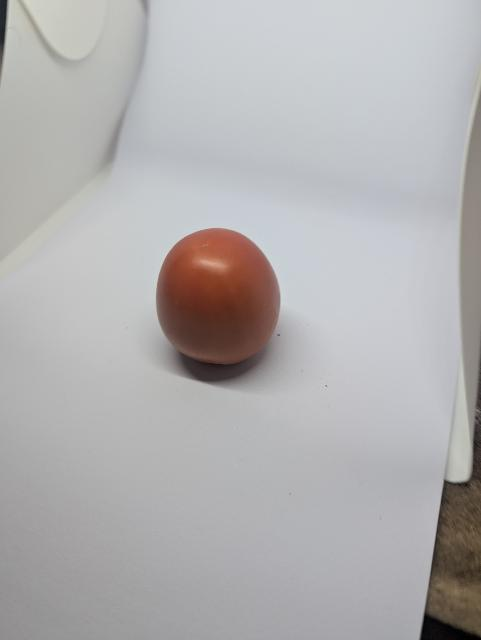red: (146, 220, 303, 382)
